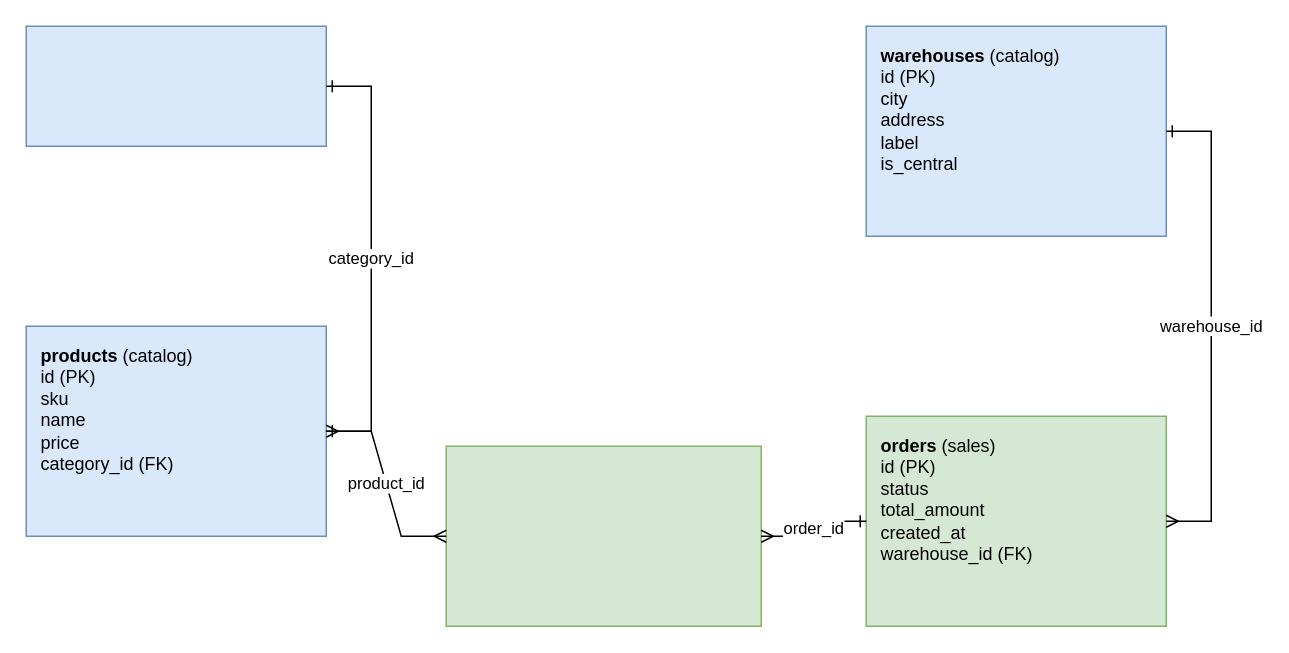
Image size: 1289x653. Some labels were removed from this diagram. The centre of each missing label's shape, as x and y in pixels:
"order_items (sales) order_id (PK, FK) product_id (PK, FK) price quantity" belongs at point 603,535.
"product_categories (catalog) id (PK) name" belongs at point 175,85.
